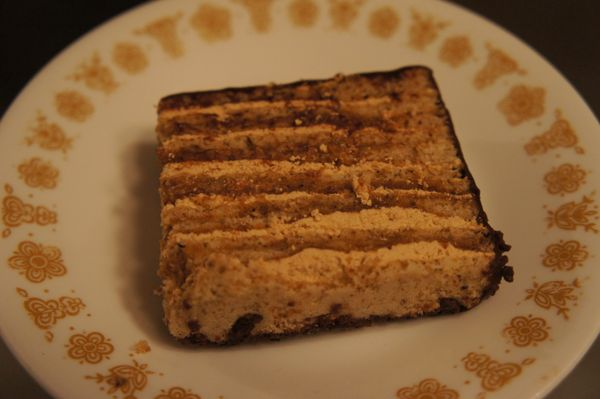sushi: (153, 68, 513, 346)
